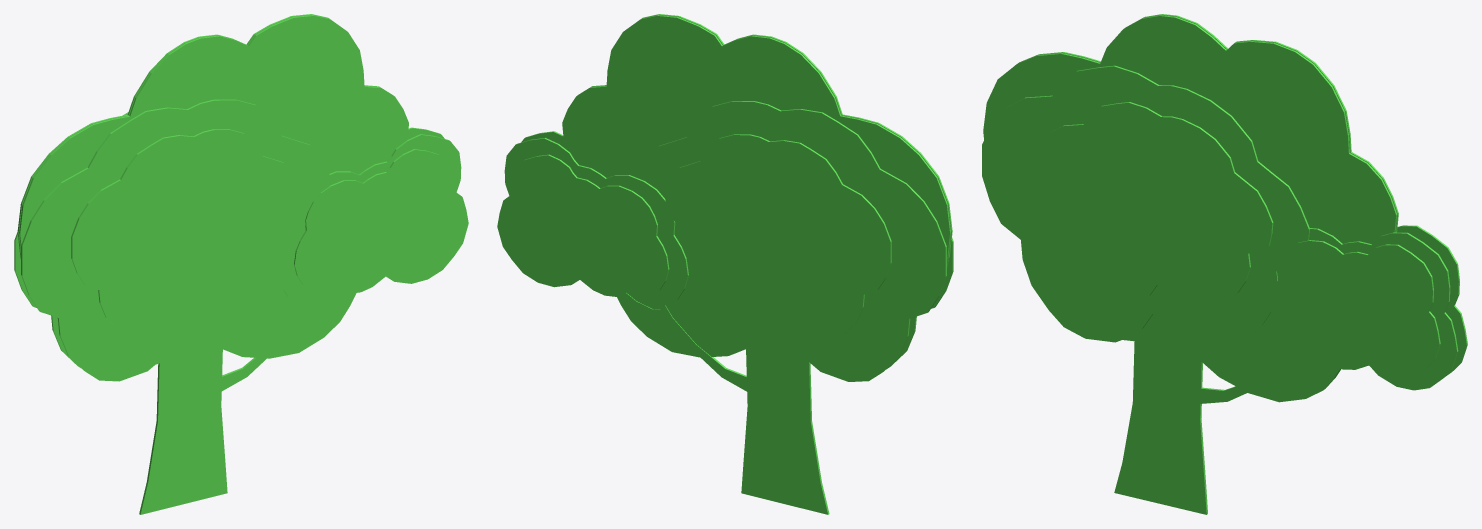
Rendered from arbre3.fbx.
3 views of the same model, side by side, from view 1: azimuth 30°, elevation 25°; view 2: azimuth 150°, elevation 25°; view 3: azimuth 330°, elevation 25° (orthographic). The views are drawn at different scales.
Visible parts, largest first — view 1: feuilles.002, tronc; view 2: feuilles.002, tronc; view 3: feuilles.002, tronc.
Boxes of the visible parts, x1=… form: feuilles.002: x1=14, y1=14, x2=468, y2=381; tronc: x1=139, y1=345, x2=266, y2=514; feuilles.002: x1=497, y1=14, x2=953, y2=381; tronc: x1=624, y1=293, x2=829, y2=514; feuilles.002: x1=982, y1=14, x2=1467, y2=402; tronc: x1=1114, y1=335, x2=1247, y2=514.
Size of the model in its own units: 122 by 120 by 7.7.
